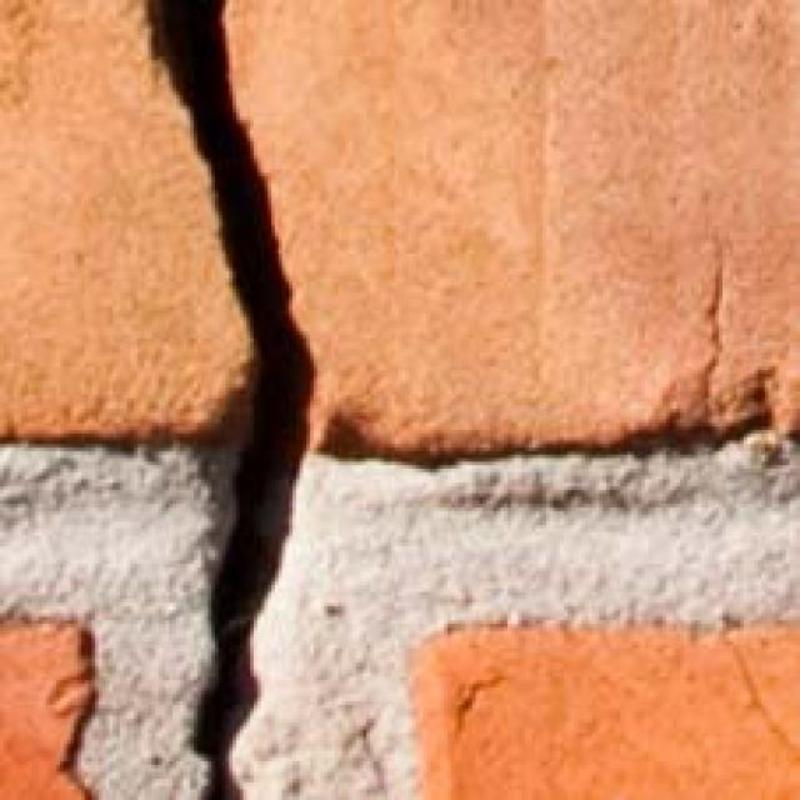pothole: (148, 0, 314, 799)
